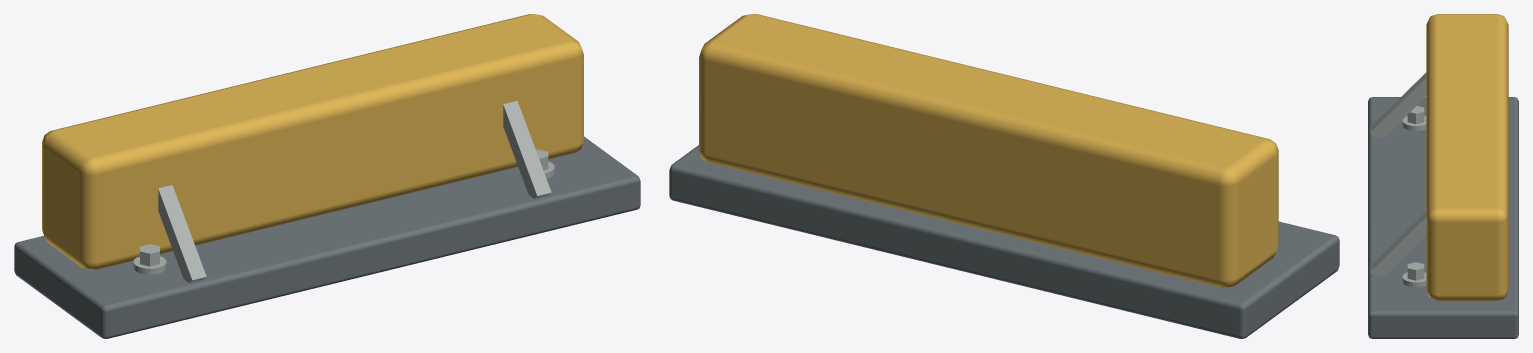
File: automated-parking-and-vehicle-retrieval-automated-park-e993b403__30355.glb
3 renders of one model, left to right at view 1: azimuth 30°, elevation 25°; view 2: azimuth 150°, elevation 25°; view 3: azimuth 270°, elevation 25°, orthographic. The views are drawn at different scales.
Parts seen in each view (by area): view 1: automated-parking-and-vehicle-retrieval-pallet-wheel-restrai (×3); view 2: automated-parking-and-vehicle-retrieval-pallet-wheel-restrai (×2); view 3: automated-parking-and-vehicle-retrieval-pallet-wheel-restrai (×3).
Part boxes in pixels (x1,y1,x2,y2): automated-parking-and-vehicle-retrieval-pallet-wheel-restrai (×3): [14, 14, 640, 338]; automated-parking-and-vehicle-retrieval-pallet-wheel-restrai (×2): [669, 14, 1339, 338]; automated-parking-and-vehicle-retrieval-pallet-wheel-restrai (×3): [1368, 14, 1518, 338].
Bounding box in the file's own units: 0.75 × 0.195 × 0.22.
